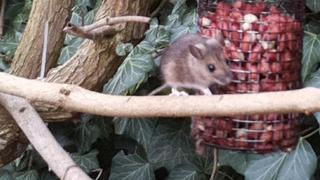mouse: (113, 32, 234, 122)
